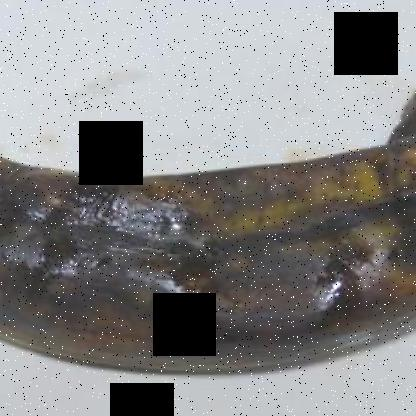rotten: (1, 21, 415, 405)
